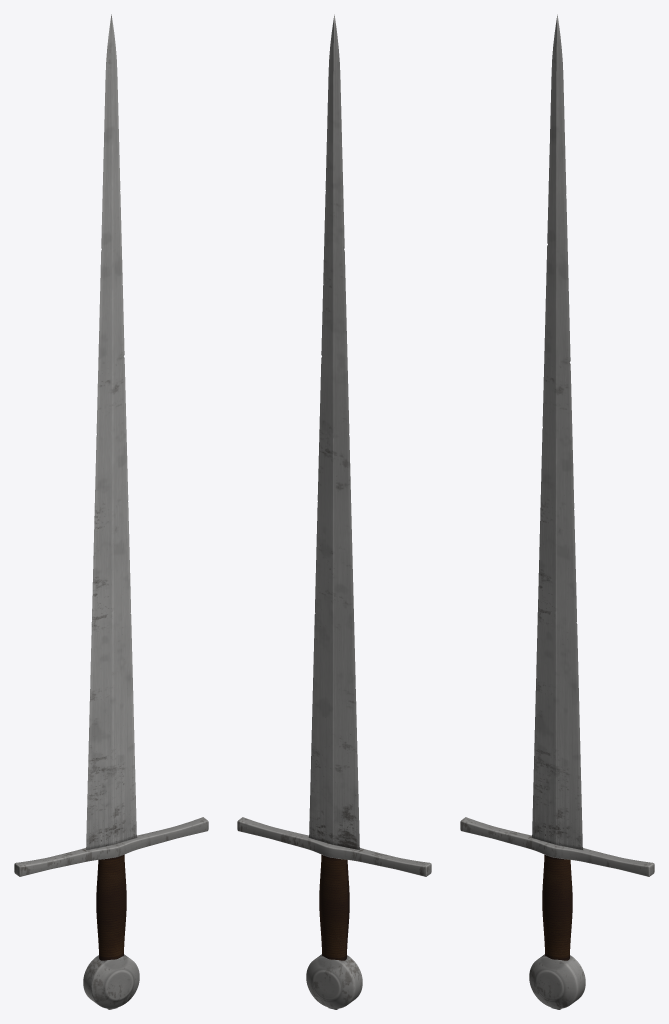
File: arming_sword.glb
The picture shows the model from 3 angles, left to right: view 1: azimuth 30°, elevation 25°; view 2: azimuth 150°, elevation 25°; view 3: azimuth 330°, elevation 25°; orthographic projection.
Visible parts, largest first — view 1: arming_sword; view 2: arming_sword; view 3: arming_sword.
Boxes of the visible parts, x1,y1,x2,y2 form: arming_sword: (14,14,208,1009); arming_sword: (237,14,431,1009); arming_sword: (460,14,654,1009).
Bounding box in the file's own units: 0.1862 × 0.9354 × 0.028.
Materials: 1 (1 with a texture image).
